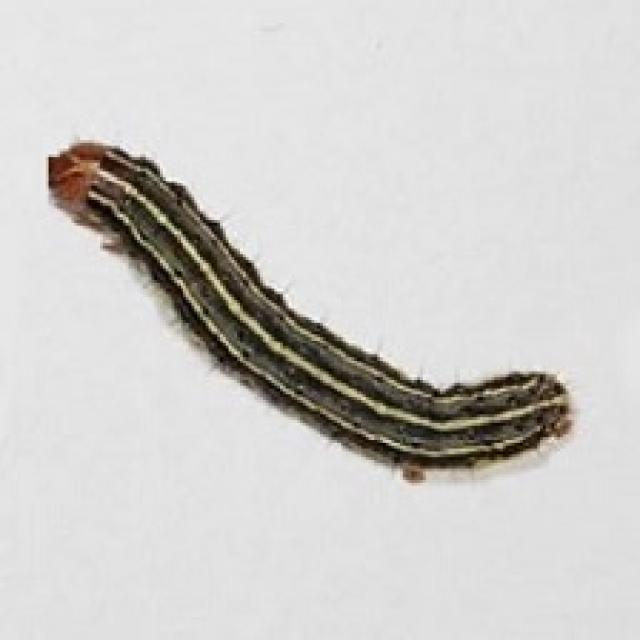Fall-armyworm: (50, 136, 578, 485)
